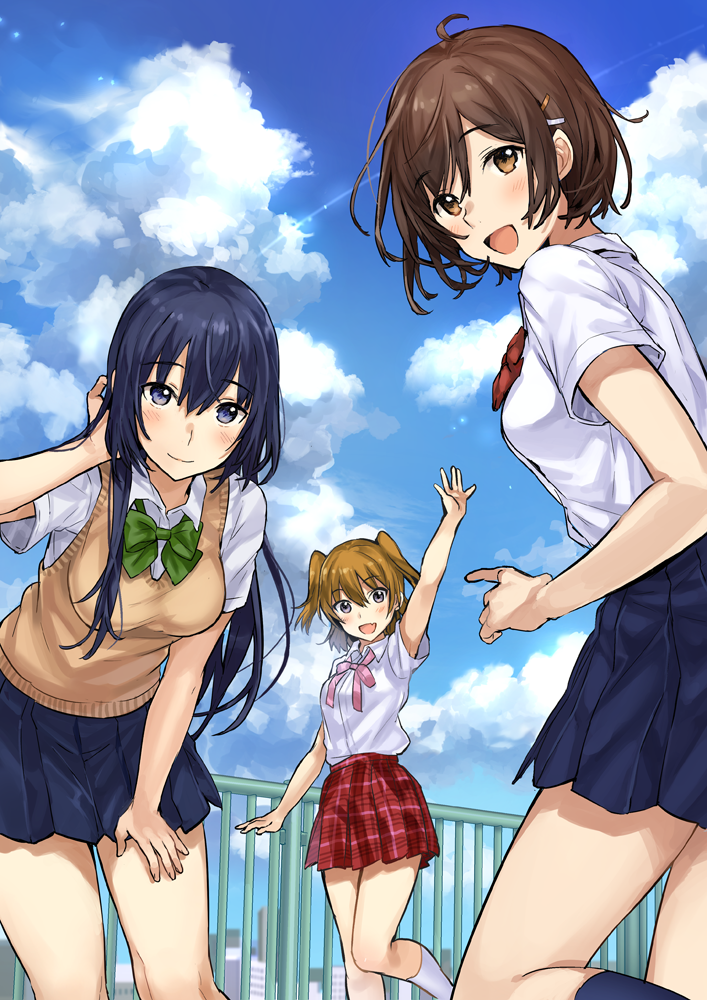纸片人正脸: (374, 28, 627, 279), (110, 267, 284, 496), (304, 535, 421, 648)
